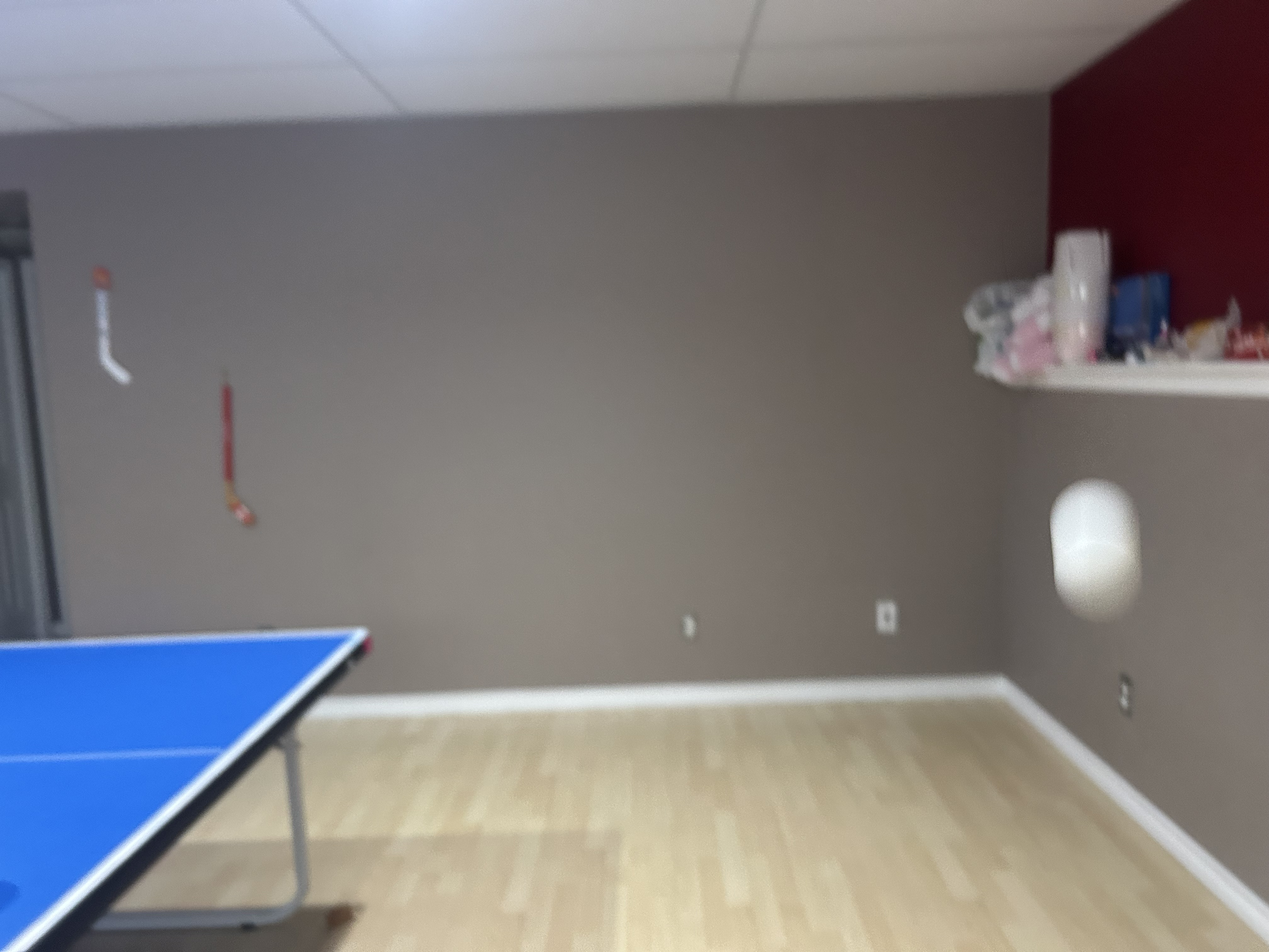Ball: (1044, 489, 1144, 618)
